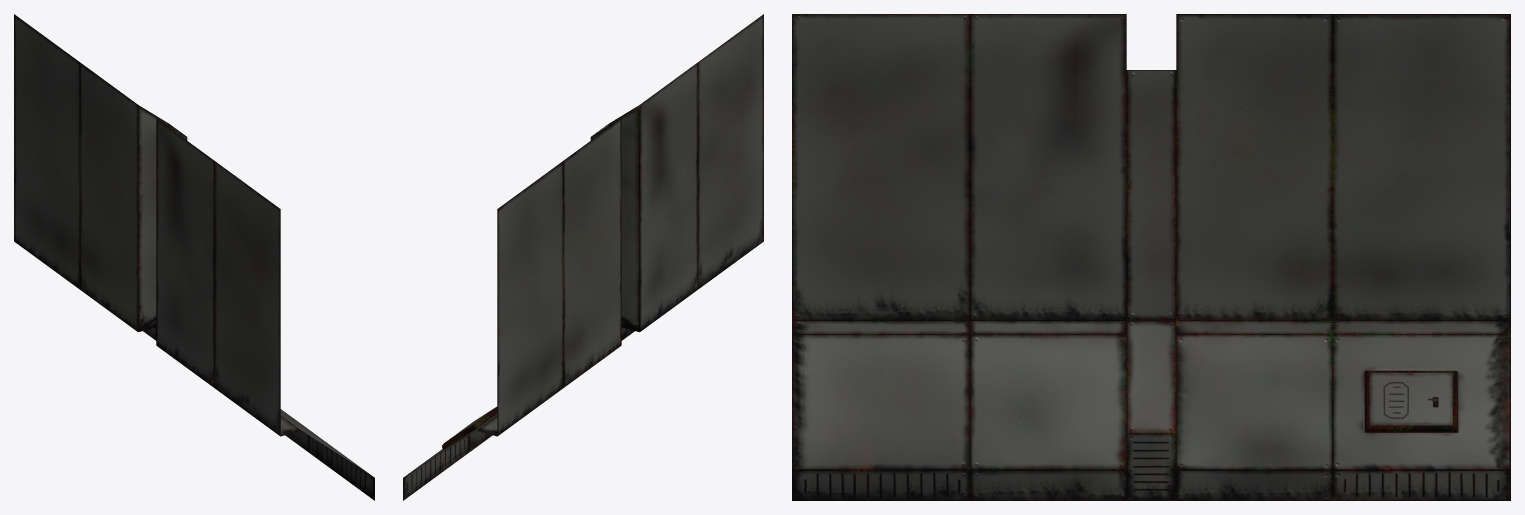
Rendered from StraightTunnel Wall_Hatch.fbx.
The picture shows the model from 3 angles, left to right: view 1: azimuth 30°, elevation 25°; view 2: azimuth 150°, elevation 25°; view 3: azimuth 270°, elevation 25°; orthographic projection. The views are drawn at different scales.
Visible parts, largest first — view 1: Wall_Hatch; view 2: Wall_Hatch; view 3: Wall_Hatch.
Part boxes in pixels (x1=…): Wall_Hatch: x1=14, y1=14, x2=374, y2=500; Wall_Hatch: x1=403, y1=14, x2=763, y2=500; Wall_Hatch: x1=792, y1=14, x2=1510, y2=500.
Size of the model in its own units: 1000 by 205 by 652.
